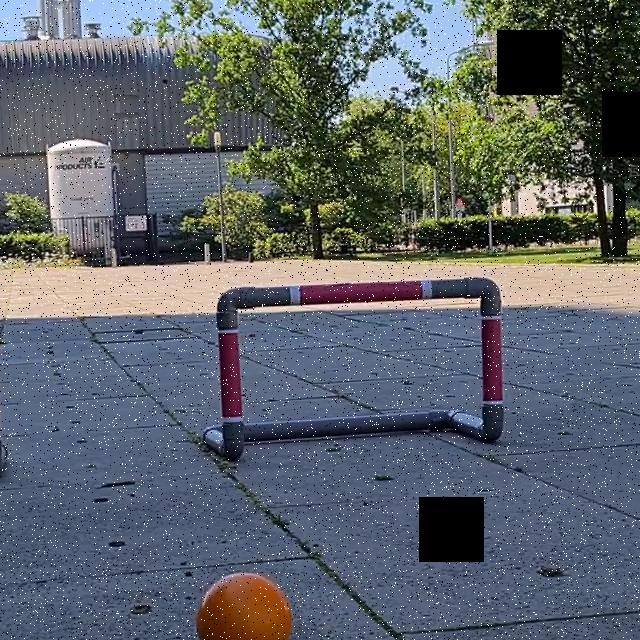ball: (196, 571, 295, 640)
